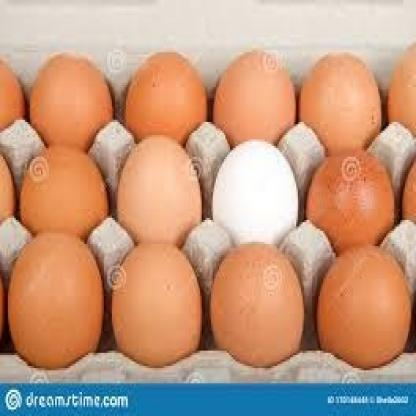egg: (7, 228, 104, 374), (315, 244, 416, 373), (210, 240, 304, 368), (110, 242, 204, 368), (116, 132, 204, 254), (212, 137, 300, 255), (306, 148, 396, 259), (300, 48, 384, 163), (28, 49, 116, 156), (123, 47, 208, 153), (20, 144, 110, 243), (213, 49, 297, 148), (388, 40, 416, 144), (0, 51, 27, 132), (0, 145, 16, 231), (404, 140, 416, 228), (0, 254, 6, 357)
